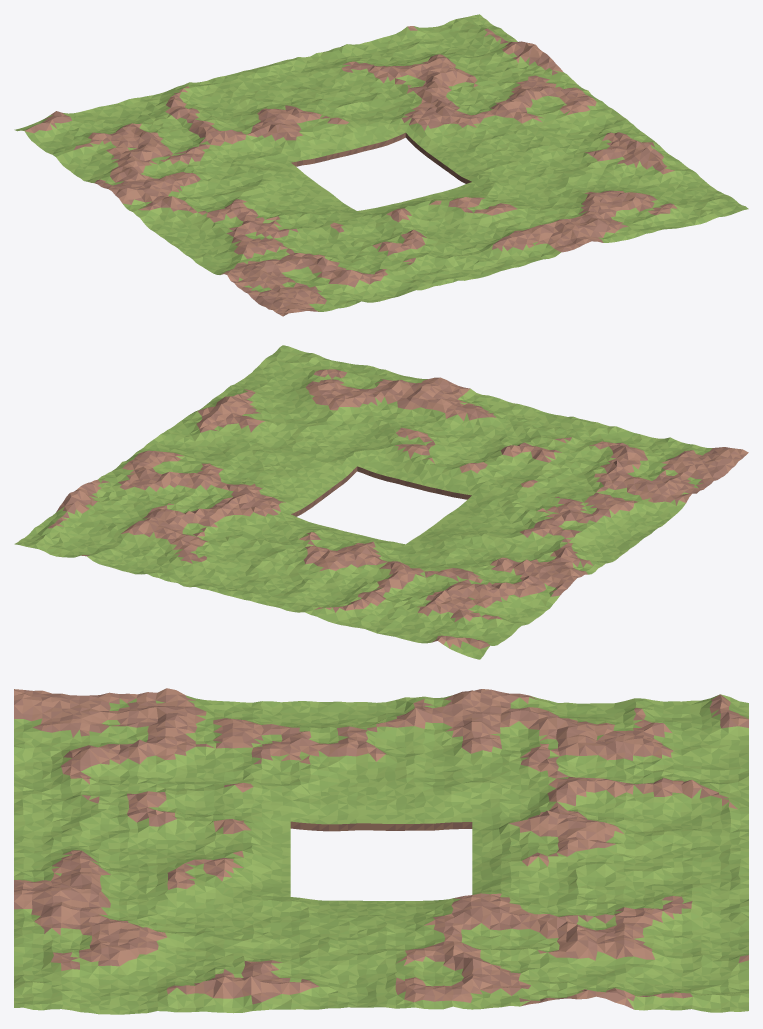
The model's file is SM_Terrain_Far.glb.
The picture shows the model from 3 angles, top to bottom: view 1: azimuth 30°, elevation 25°; view 2: azimuth 150°, elevation 25°; view 3: azimuth 270°, elevation 25°; orthographic projection. The views are drawn at different scales.
Parts seen in each view (by area): view 1: SM_Terrain_Far; view 2: SM_Terrain_Far; view 3: SM_Terrain_Far.
Part boxes in pixels (x1,y1,x2,y2): SM_Terrain_Far: (14,14,748,316); SM_Terrain_Far: (14,345,748,659); SM_Terrain_Far: (14,688,748,1014).
Size of the model in its own units: 19250 by 935 by 19250.
1 material, 1 textured.
